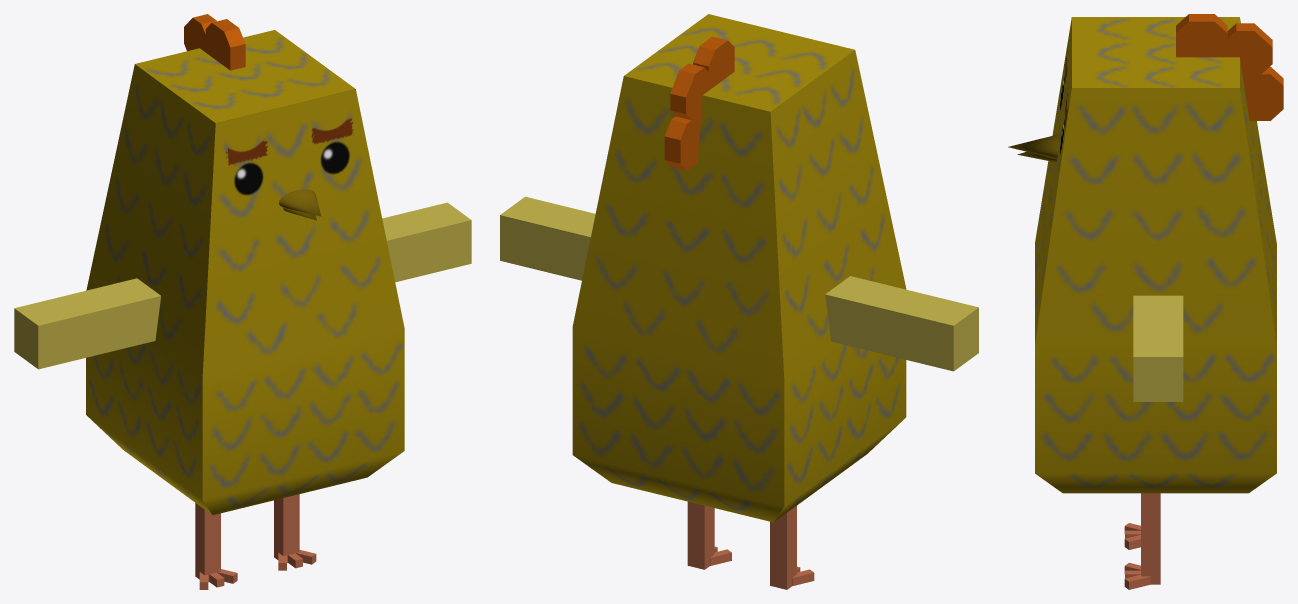
File: Personaggio.fbx
The picture shows the model from 3 angles, left to right: view 1: azimuth 30°, elevation 25°; view 2: azimuth 150°, elevation 25°; view 3: azimuth 270°, elevation 25°; orthographic projection. The views are drawn at different scales.
Parts seen in each view (by area): view 1: Busto, Braccio_Destro, Braccio_Sinistro, Cresta, Piede_Sinistro1, Piede_Sinistro, Becco; view 2: Busto, Braccio_Destro, Braccio_Sinistro, Cresta, Piede_Sinistro1, Piede_Sinistro; view 3: Busto, Cresta, Braccio_Sinistro, Piede_Sinistro, Becco, Piede_Sinistro1.
Part boxes in pixels (<box>): Busto: <box>86,30,404,515</box>; Braccio_Destro: <box>14,278,160,369</box>; Braccio_Sinistro: <box>382,202,471,282</box>; Cresta: <box>184,14,245,70</box>; Piede_Sinistro1: <box>195,503,237,589</box>; Piede_Sinistro: <box>274,494,316,570</box>; Becco: <box>279,189,321,220</box>; Busto: <box>572,14,906,522</box>; Braccio_Destro: <box>825,276,978,371</box>; Braccio_Sinistro: <box>500,196,595,280</box>; Cresta: <box>664,36,734,170</box>; Piede_Sinistro1: <box>770,506,814,589</box>; Piede_Sinistro: <box>687,501,731,569</box>; Busto: <box>1035,17,1276,493</box>; Cresta: <box>1176,14,1283,120</box>; Braccio_Sinistro: <box>1133,295,1183,401</box>; Piede_Sinistro: <box>1124,493,1160,589</box>; Becco: <box>1008,134,1058,162</box>; Piede_Sinistro1: <box>1124,523,1140,549</box>.
Bounding box in the file's own units: 3.09 × 3.58 × 1.64.
5 materials, 1 textured.
